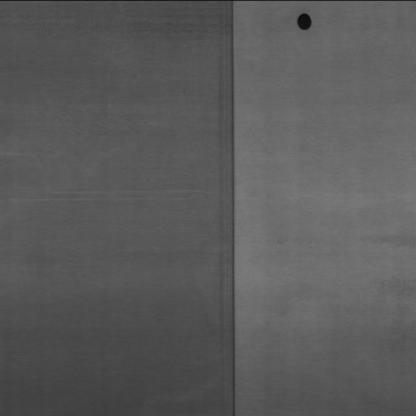punching_hole: (290, 10, 318, 34)
welding_line: (219, 0, 252, 416)
